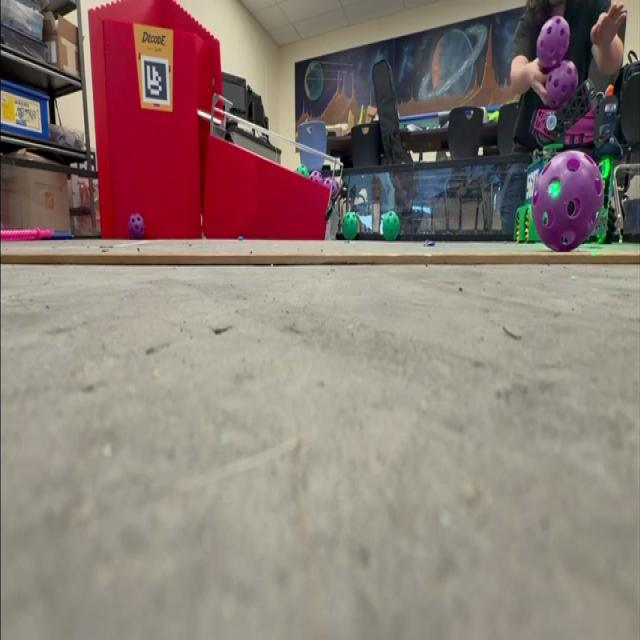artifact_green: (383, 211, 400, 241), (343, 212, 358, 239), (297, 164, 309, 177), (543, 212, 548, 226)
artifact_purple: (532, 151, 604, 251), (537, 16, 570, 70), (546, 60, 578, 109), (129, 214, 145, 238), (324, 176, 339, 198), (310, 171, 323, 183)
